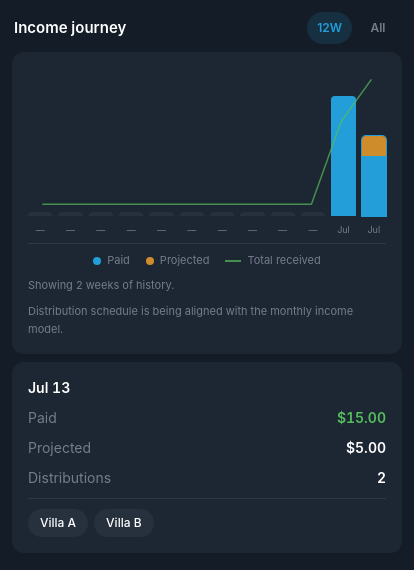
Scenario: IncomeJourneyChart — explorable income over time › ALL range shows data weeks only; constrained caption is honest
The image size is (414, 570).
Click the button with test id "journey-range-ALL".
click(378, 28)  # box [356,12,400,44]
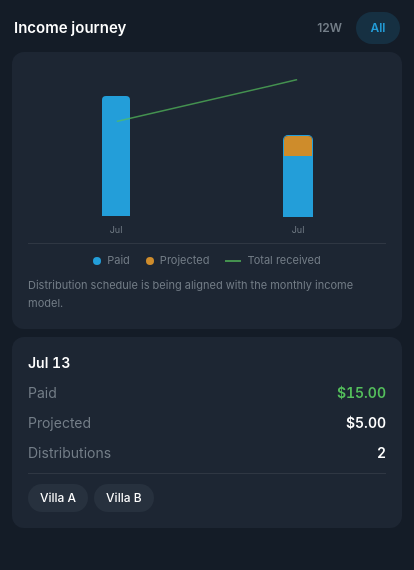
Result: the number of buttons with test id "journey-bar" is 2 at [28,96,204,216]; [210,136,386,216]
Click the button with test id "journey-range-12W".
click(330, 28)  # box [307,12,352,44]
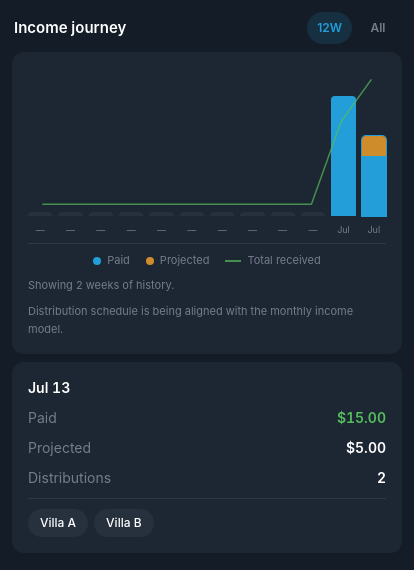
Result: the number of buttons with test id "journey-bar" is 12
Result: the text "Showing 2 weeks of history." is shown at [28,278,174,292]
